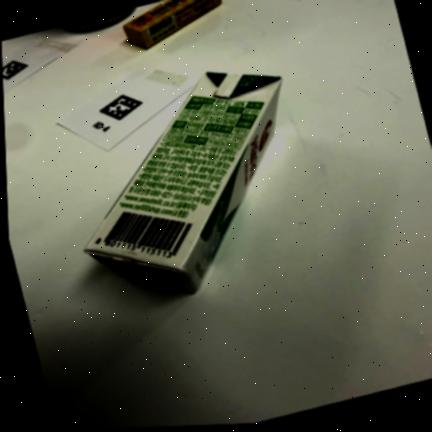milk_green: (86, 73, 282, 293)
